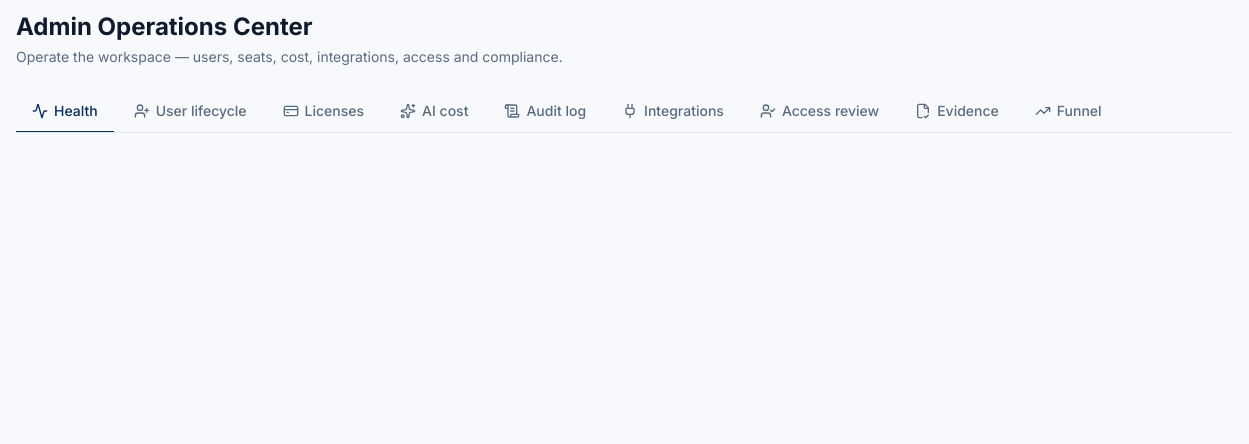
Test case: AdminOpsView › generates a compliance evidence package
Click the tab "Evidence" at (957, 112), box x1=899 y1=91 x2=1015 y2=133
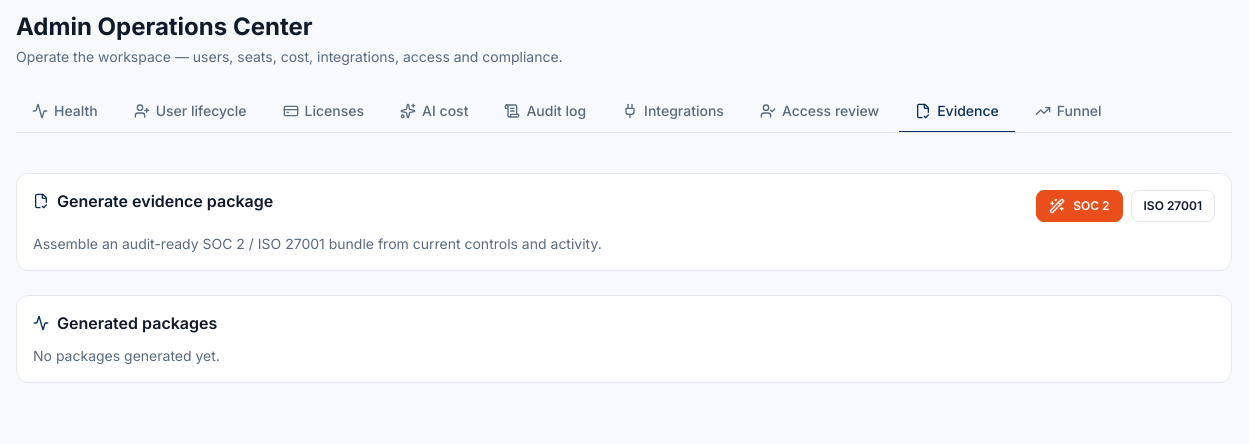
Click the button "SOC 2" at (1079, 206), box x1=1036 y1=190 x2=1122 y2=222
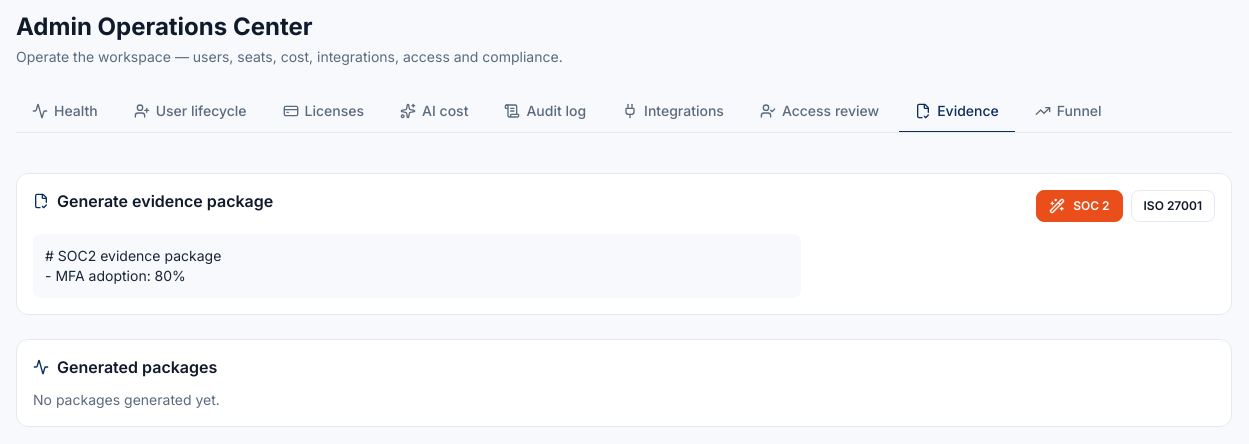
expect the text "# SOC2 evidence package - MFA adoption: 80%" is shown: met, box x1=33 y1=234 x2=801 y2=298
